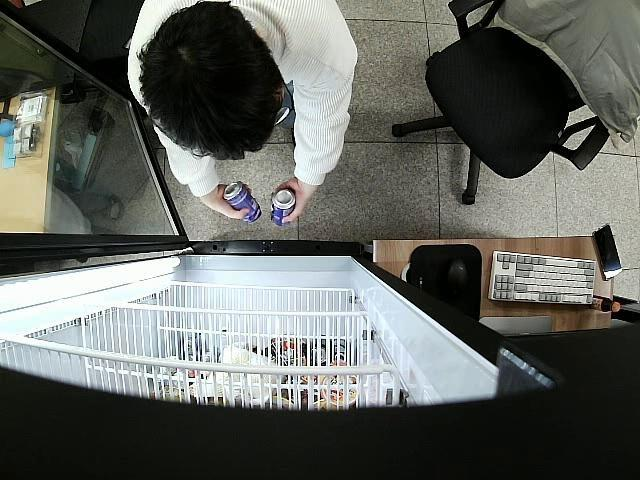14_welchsGrape: (223, 180, 262, 224), (270, 188, 296, 227)
